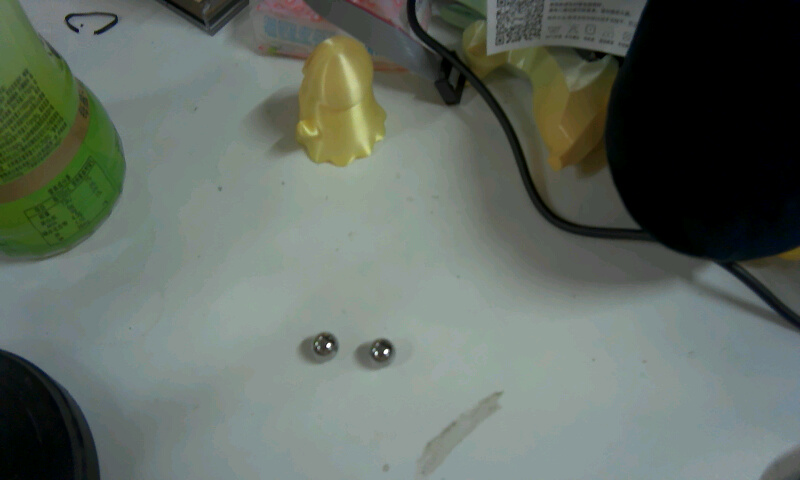steelball: (299, 325, 344, 373), (364, 334, 401, 374)
